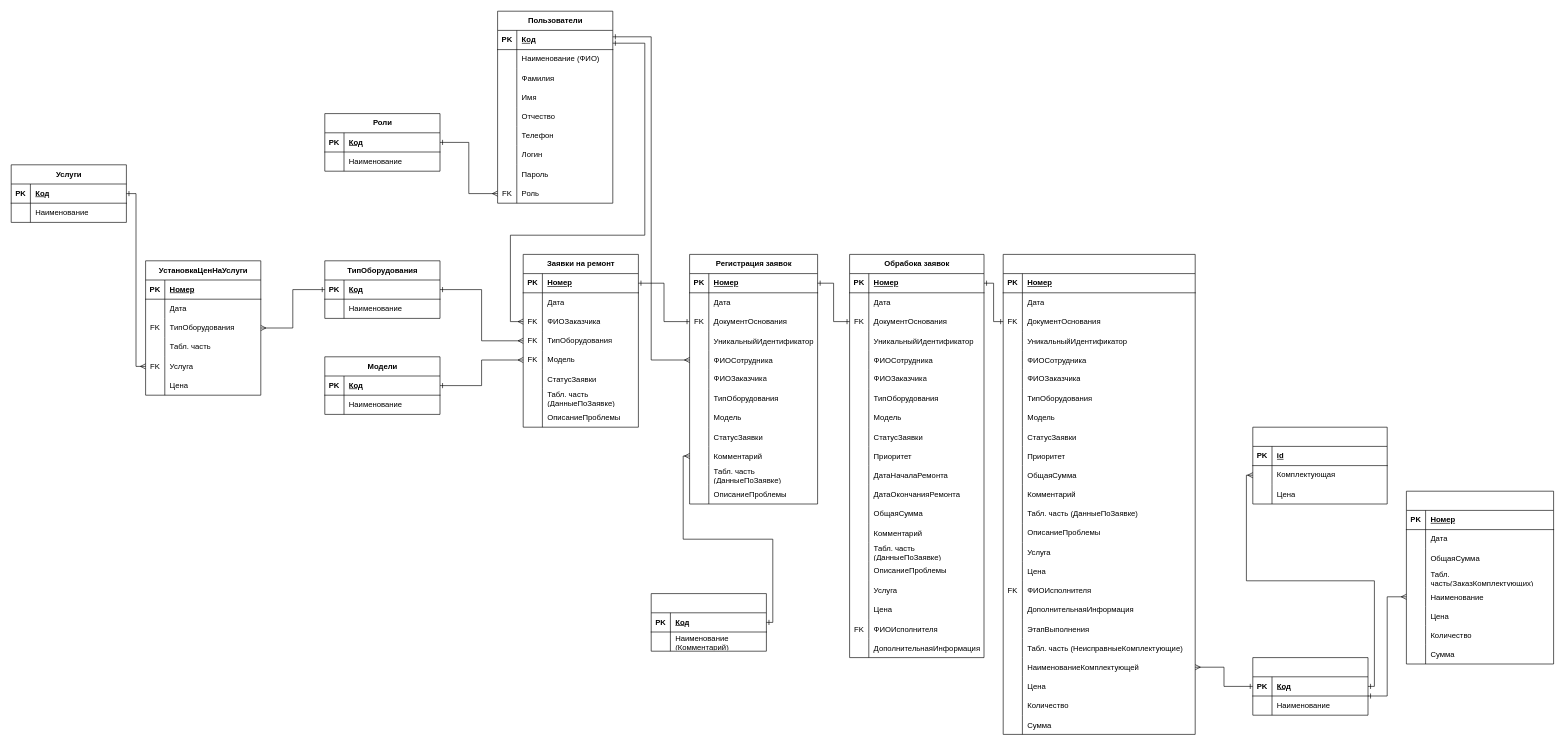
This 1565x746 diagram has some shape labels left out. Here are the shapes that lost their labels. From the top down, the box of each, then its label:
(1252, 427, 1387, 504): РегистрЦенНаКомплектующие
(1003, 254, 1195, 734): Исполнение заявок
(1406, 491, 1554, 664): Заказы комплектующих
(651, 593, 766, 651): Комментарии
(1252, 657, 1368, 715): Комплектующие
